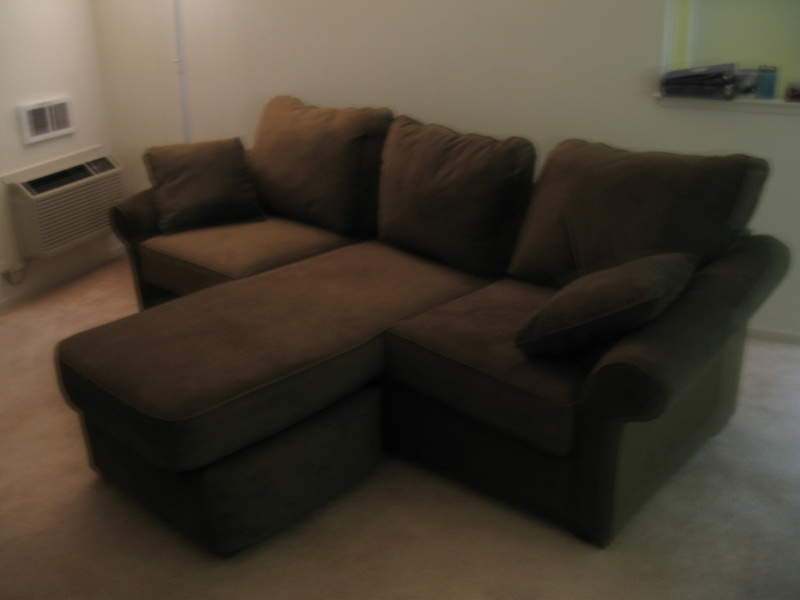couch: (67, 92, 792, 560)
